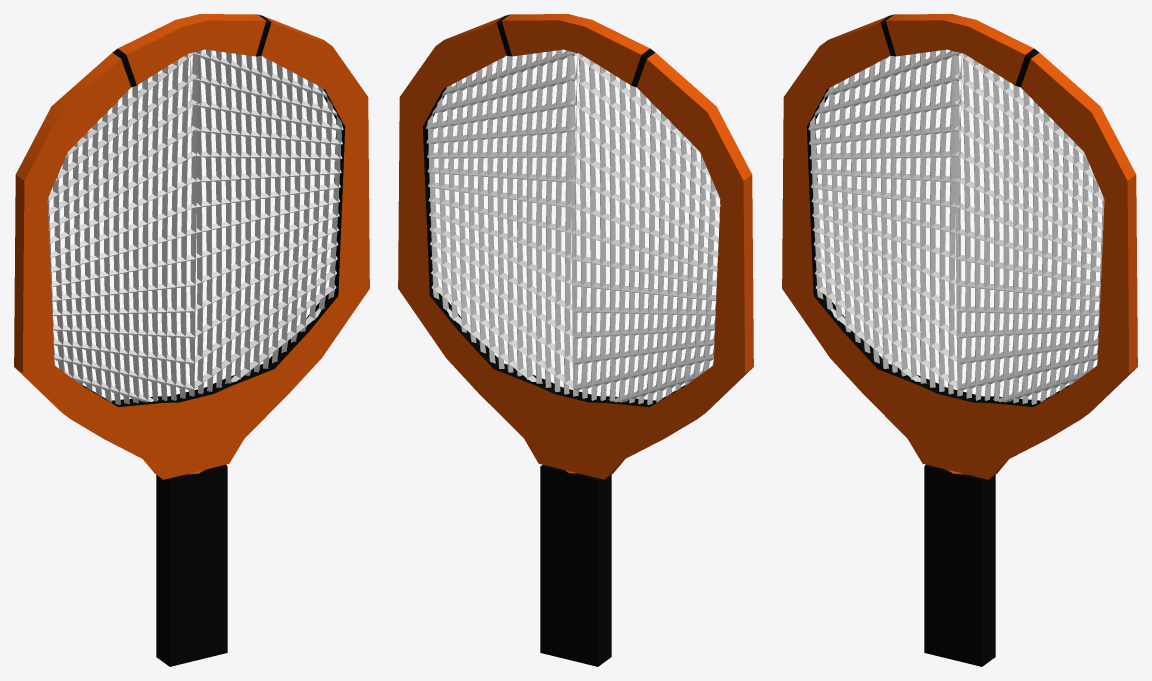
Rendered from rakete2.glb.
3 views of the same model, side by side, from view 1: azimuth 30°, elevation 25°; view 2: azimuth 150°, elevation 25°; view 3: azimuth 330°, elevation 25° (orthographic).
Visible parts, largest first — view 1: Plane, Cube.001; view 2: Plane, Cube.001; view 3: Plane, Cube.001.
Part boxes in pixels (x1,y1,x2,y2): Plane: (47, 49, 343, 404); Cube.001: (14, 14, 369, 666); Plane: (426, 50, 720, 404); Cube.001: (398, 14, 753, 666); Plane: (808, 49, 1104, 404); Cube.001: (782, 14, 1137, 666).
Bounding box in the file's own units: 0.3709 × 0.6482 × 0.0252.
